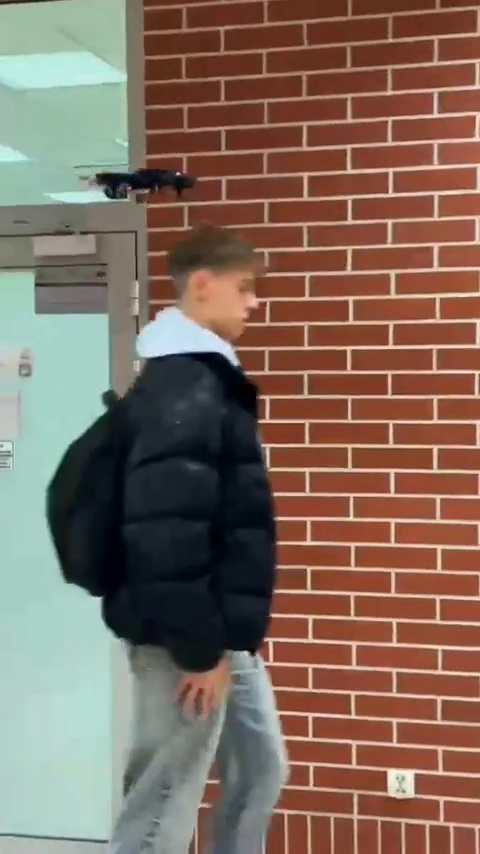drone: (93, 162, 198, 207)
no vest: (50, 226, 291, 854)
